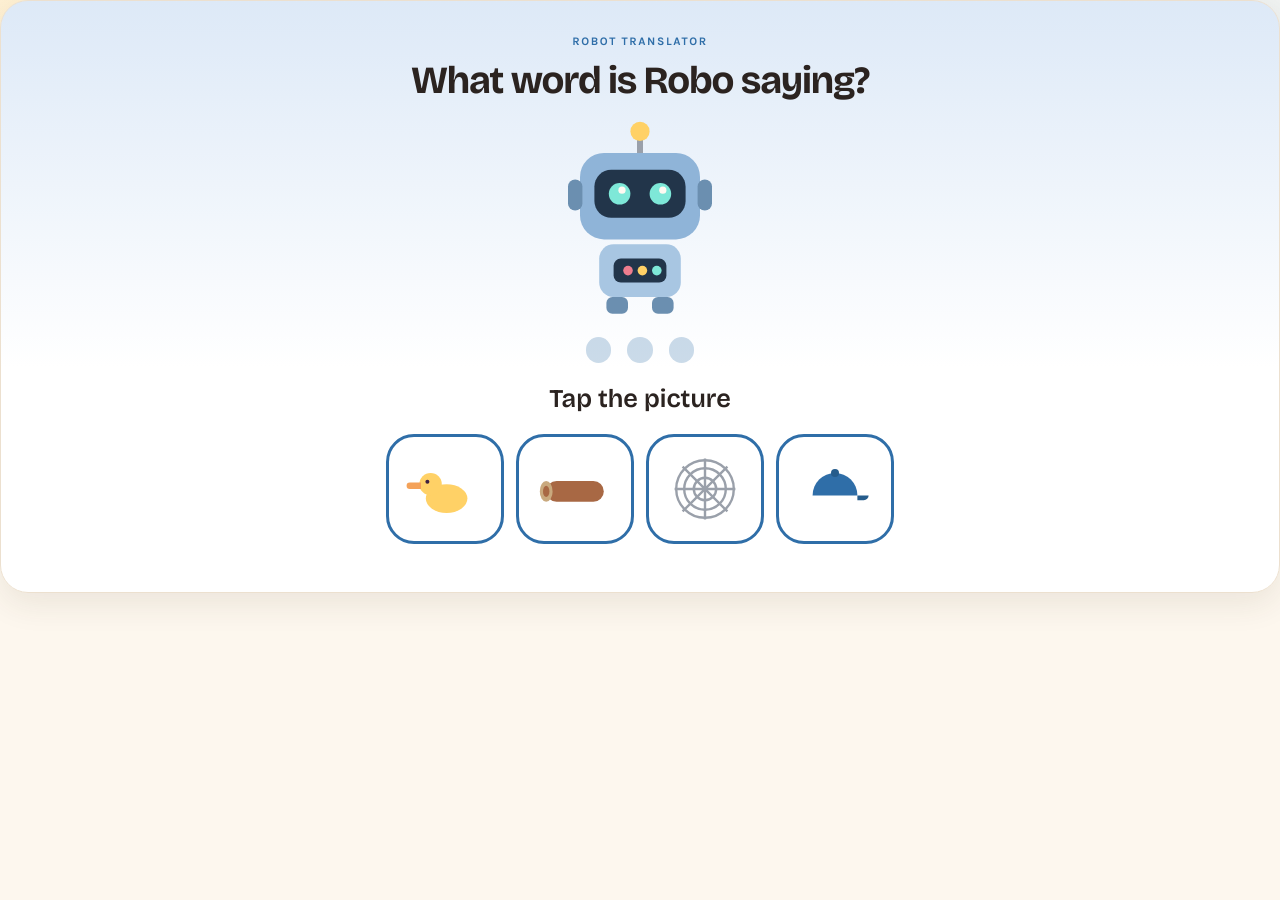
Robot Translator › reports the picture the child tapped
Click the 2nd button named "log" at [575, 489], box [516, 434, 634, 544]
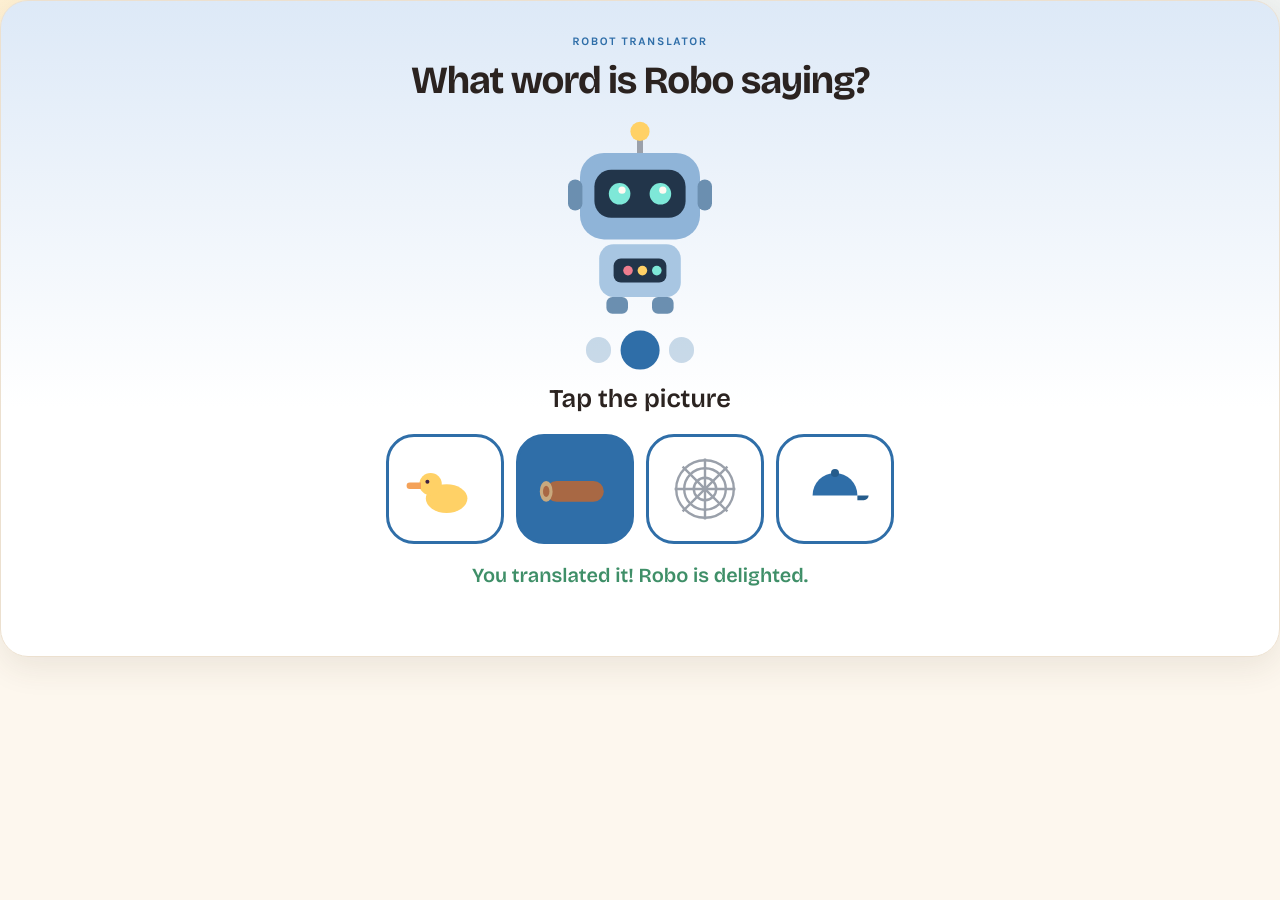
Now the text "You translated it! Robo is delighted." is shown, box [472, 563, 808, 587]
